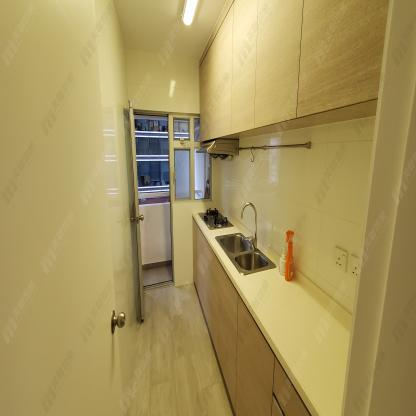Cupboard: (199, 0, 389, 143), (192, 216, 312, 416)
Exhaust Hood: (195, 139, 239, 161)
Faucet: (237, 197, 259, 250)
Sink: (215, 232, 277, 276)
Stove: (197, 207, 234, 231)
